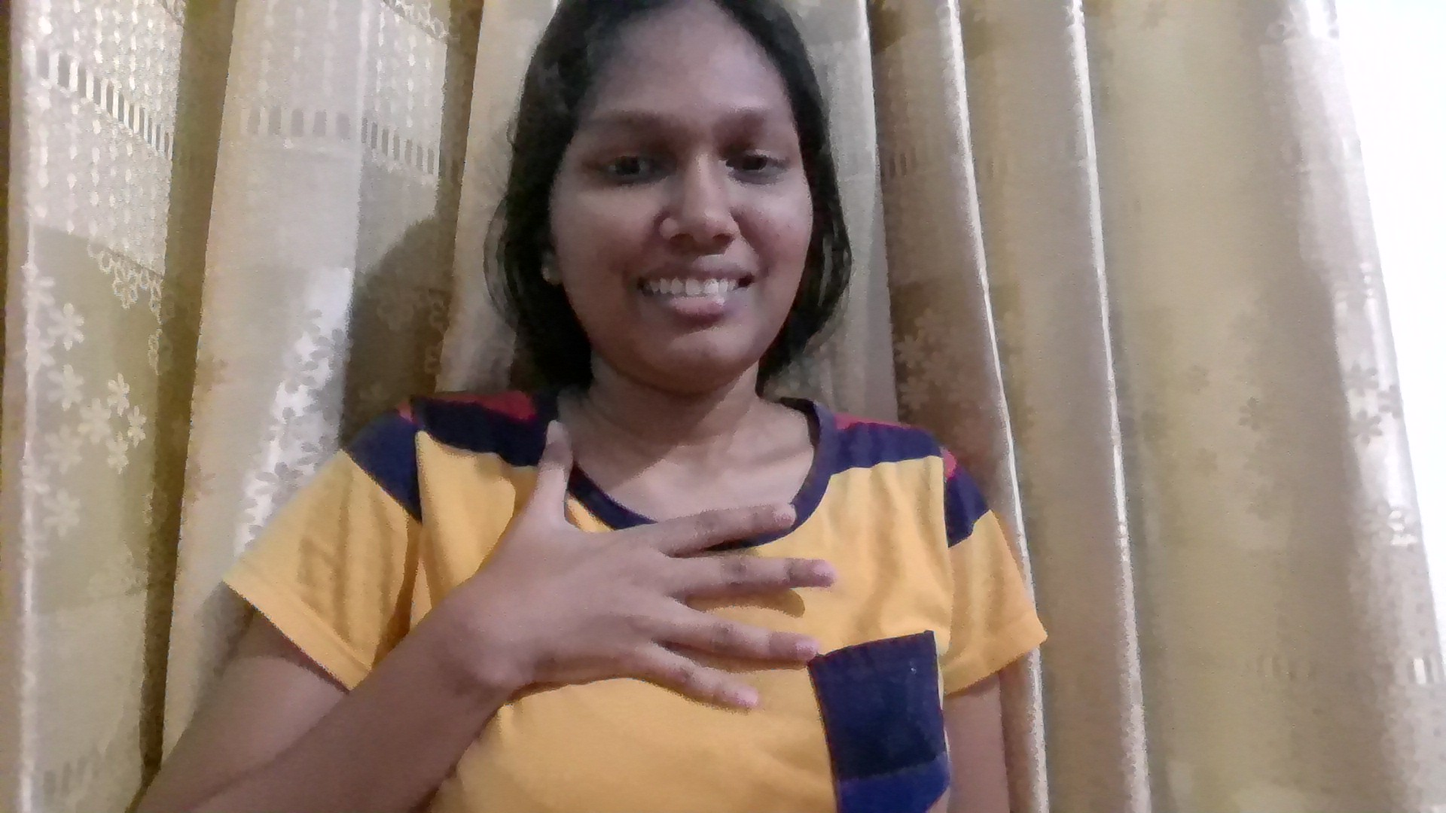Please: (365, 412, 1081, 727)
